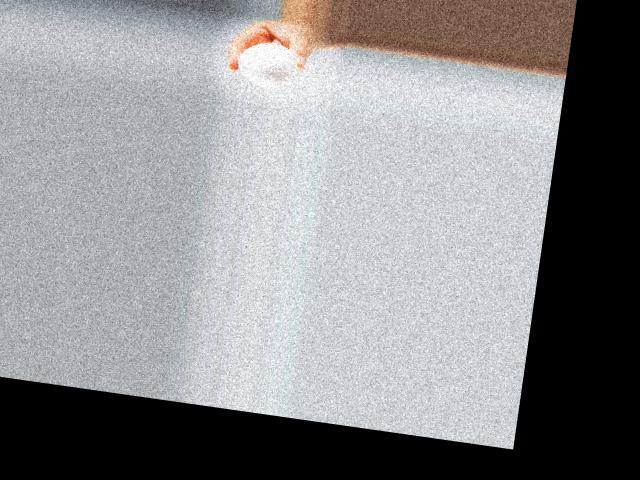egg: (234, 38, 298, 90)
